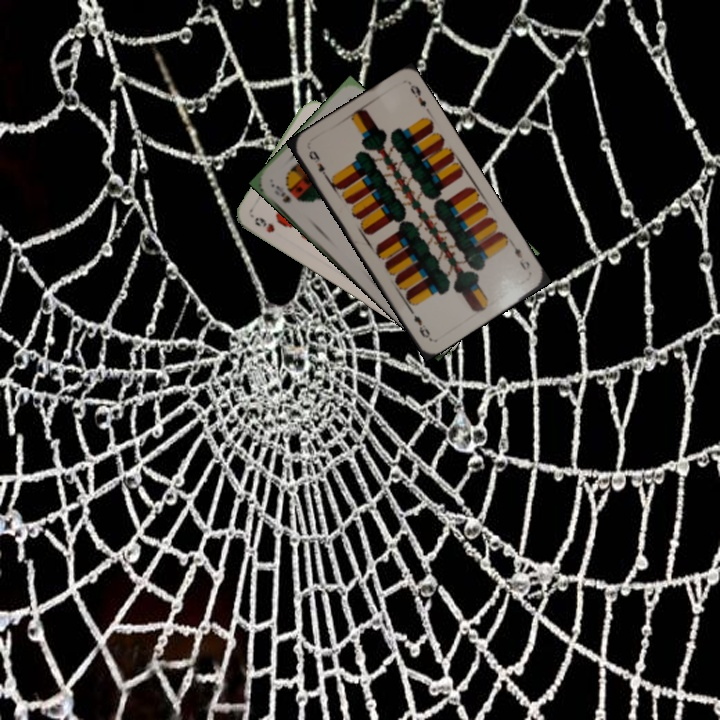E9: (304, 146, 331, 182), (507, 239, 533, 273)
H9: (250, 213, 277, 235)
SO: (272, 181, 294, 206)
